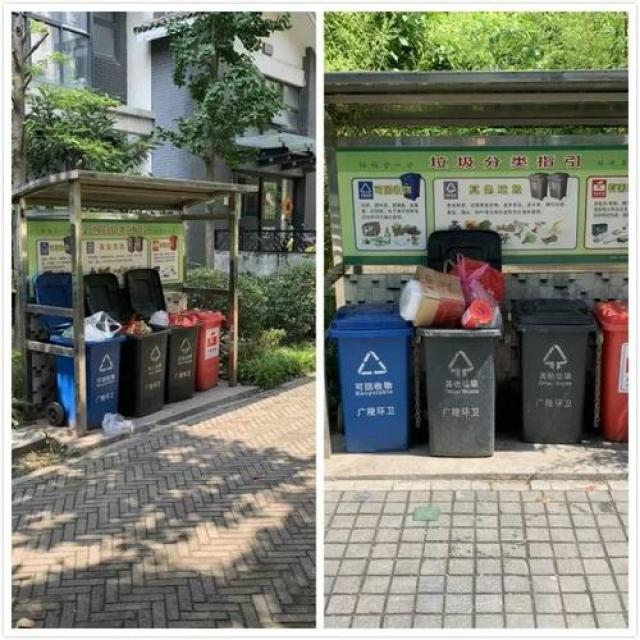garbage: (99, 410, 138, 435)
garbage_bin: (330, 303, 415, 452), (510, 297, 592, 442), (595, 300, 627, 439), (192, 308, 223, 390)
overflow: (400, 253, 506, 454), (48, 310, 124, 428), (146, 308, 202, 402), (119, 319, 170, 417)
